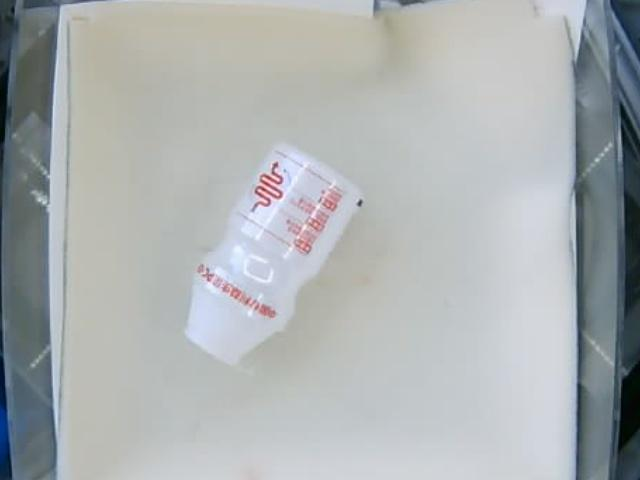Bottle: (185, 140, 362, 363)
